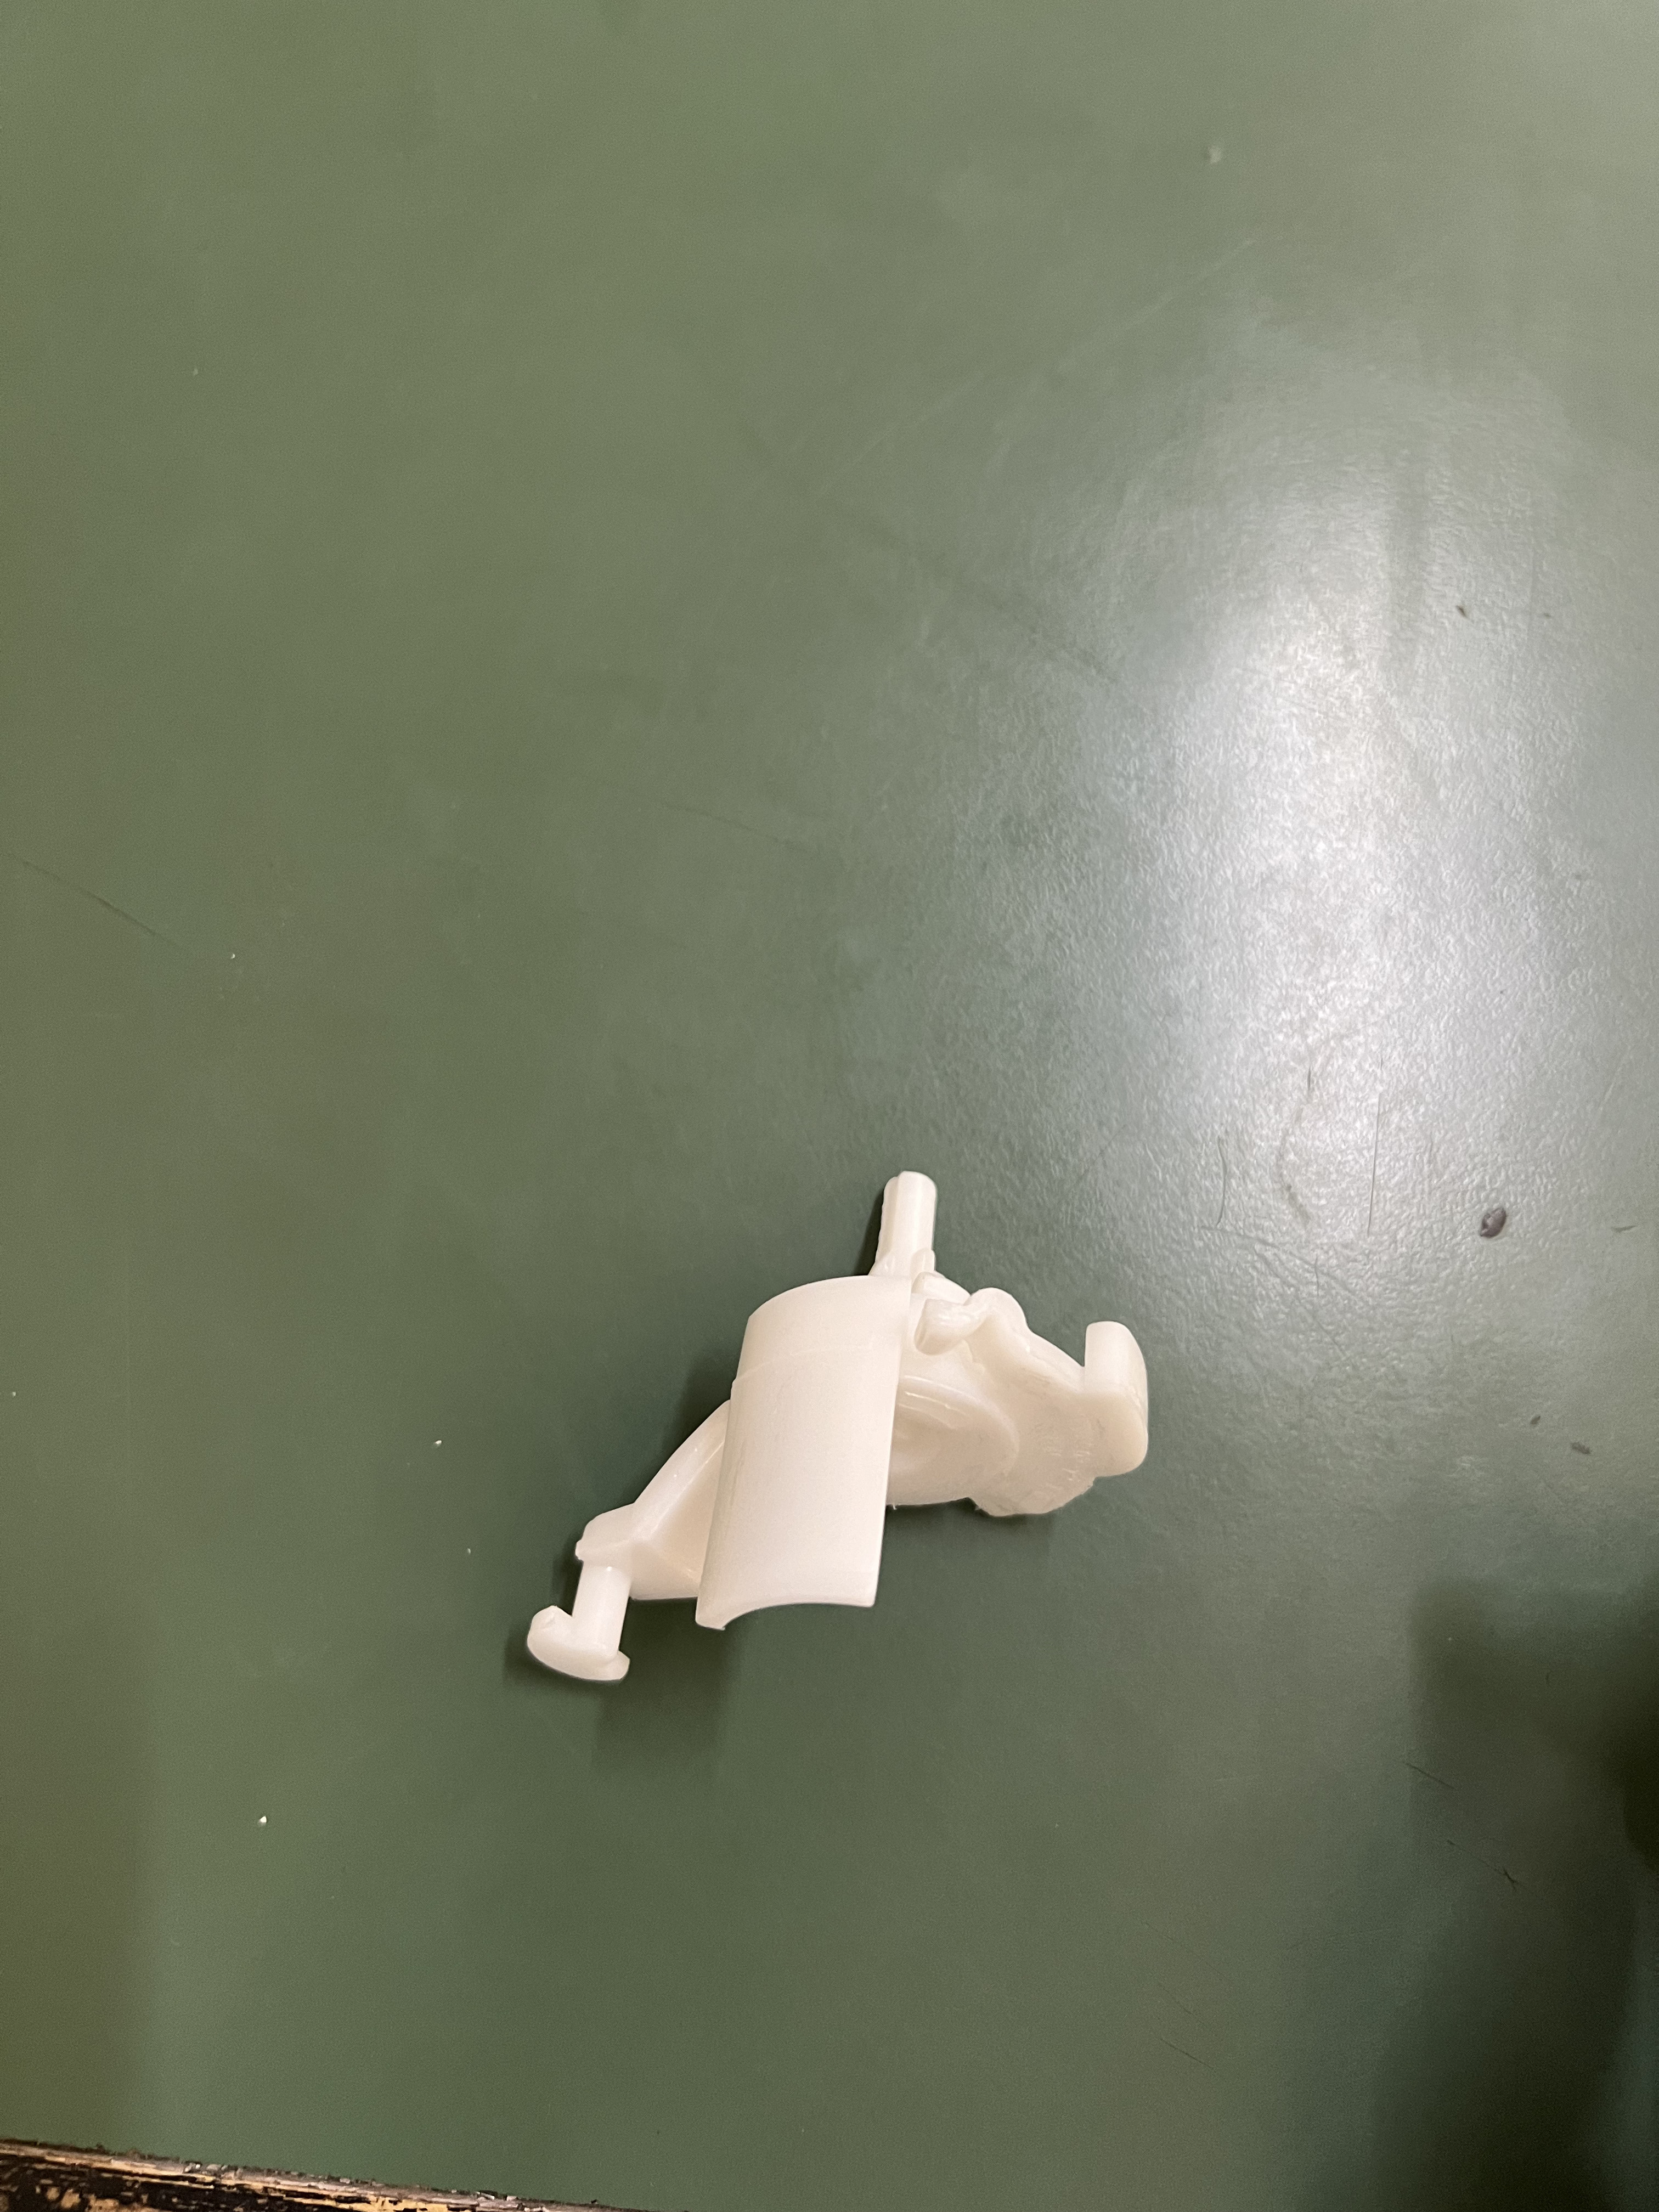drain_lever: (460, 1157, 1150, 1756)
